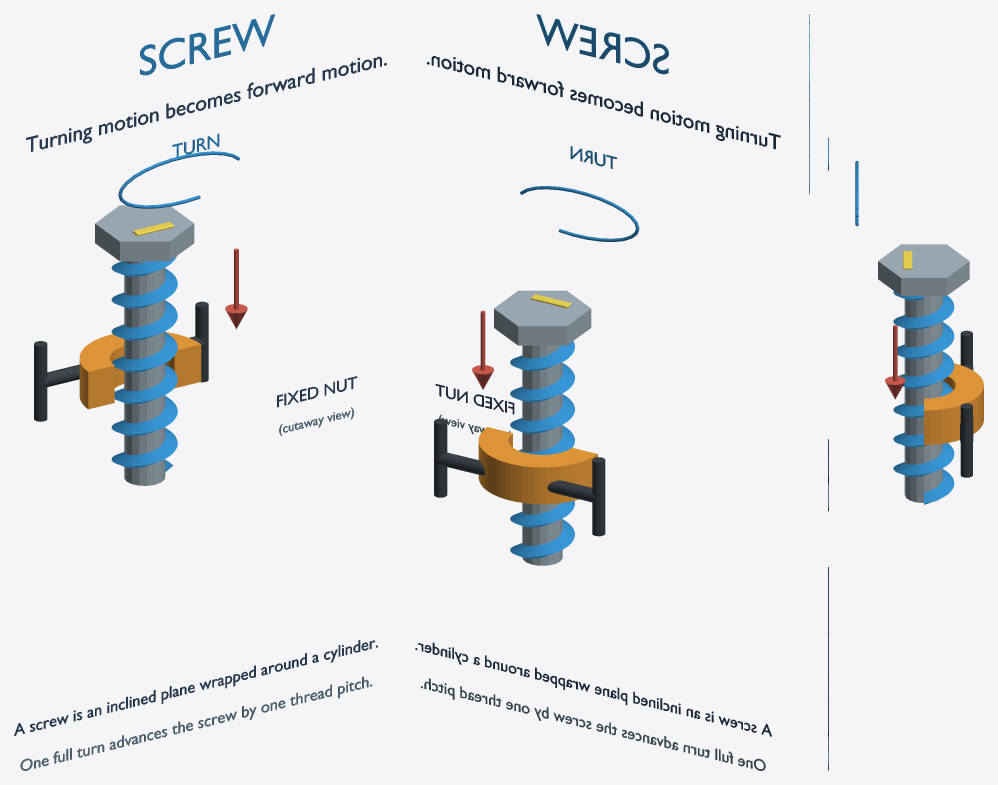
The picture shows the model from 3 angles, left to right: view 1: azimuth 30°, elevation 25°; view 2: azimuth 150°, elevation 25°; view 3: azimuth 270°, elevation 25°; orthographic projection. The views are drawn at different scales.
Visible parts, largest first — view 1: Helical screw thread, Screw core, Hexagonal screw head, Fixed nut cutaway, Turning motion becomes forward motion., A screw is an inclined plane wrapped around a cylinder., One full turn advances the screw by one thread pitch., SCREW, Nut support, Nut support.001; view 2: Fixed nut cutaway, Helical screw thread, Hexagonal screw head, Screw core, Turning motion becomes forward motion., A screw is an inclined plane wrapped around a cylinder., One full turn advances the screw by one thread pitch., SCREW, Fixed nut mounting, Nut support, Nut support.001; view 3: Helical screw thread, Screw core, Hexagonal screw head, Fixed nut cutaway, Nut support.001, Nut support.
Part boxes in pixels (box(x1,y1,x2,y2)): Helical screw thread: box(111, 256, 177, 471); Screw core: box(124, 261, 165, 485); Hexagonal screw head: box(95, 205, 194, 261); Fixed nut cutaway: box(79, 332, 201, 409); Turning motion becomes forward motion.: box(26, 56, 386, 151); A screw is an inclined plane wrapped around a cylinder.: box(14, 640, 377, 735); One full turn advances the screw by one thread pitch.: box(20, 676, 372, 770); SCREW: box(140, 14, 274, 75); Nut support: box(34, 341, 47, 421); Nut support.001: box(195, 301, 208, 382); Fixed nut cutaway: box(478, 427, 597, 504); Helical screw thread: box(510, 341, 574, 558); Hexagonal screw head: box(494, 290, 591, 345); Screw core: box(522, 345, 562, 565); Turning motion becomes forward motion.: box(427, 56, 780, 149); A screw is an inclined plane wrapped around a cylinder.: box(415, 642, 771, 736); One full turn advances the screw by one thread pitch.: box(421, 678, 765, 770); SCREW: box(536, 14, 668, 74); Fixed nut mounting: box(437, 452, 595, 502); Nut support: box(592, 457, 605, 536); Nut support.001: box(434, 418, 447, 497); Helical screw thread: box(893, 291, 954, 504); Screw core: box(904, 296, 942, 502); Hexagonal screw head: box(878, 244, 969, 295); Fixed nut cutaway: box(924, 363, 983, 445); Nut support.001: box(960, 403, 972, 477); Nut support: box(960, 330, 972, 365).
Size of the model in its own units: 4.06 by 7.57 by 1.83.
